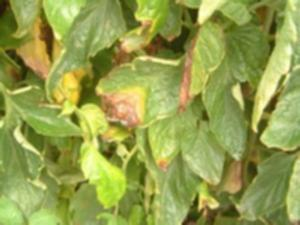Tomato mold leaf: (92, 23, 224, 138), (198, 19, 267, 159), (230, 150, 299, 222), (6, 84, 84, 142)
